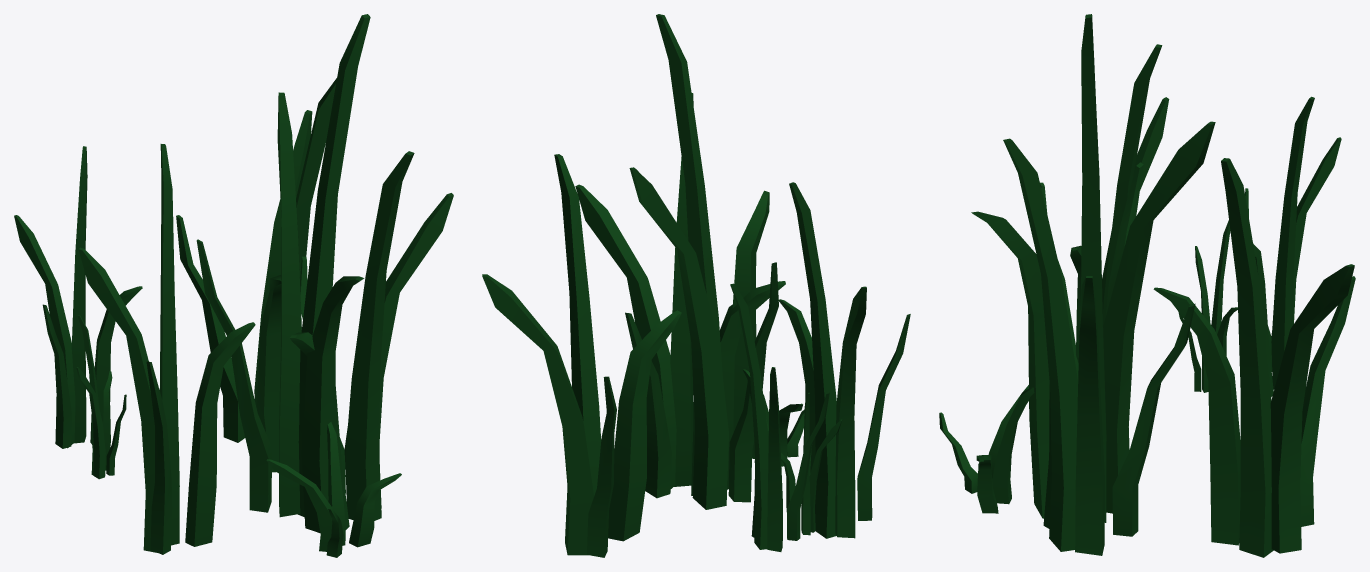
File: Grass8.fbx
The picture shows the model from 3 angles, left to right: view 1: azimuth 30°, elevation 25°; view 2: azimuth 150°, elevation 25°; view 3: azimuth 270°, elevation 25°; orthographic projection. The views are drawn at different scales.
Parts seen in each view (by area): view 1: Grass2; view 2: Grass2; view 3: Grass2.
Boxes of the visible parts, <box> form: Grass2: <box>14,14,453,557</box>; Grass2: <box>482,14,910,557</box>; Grass2: <box>939,14,1355,557</box>.
Size of the model in its own units: 1.62 by 2.26 by 1.59.
